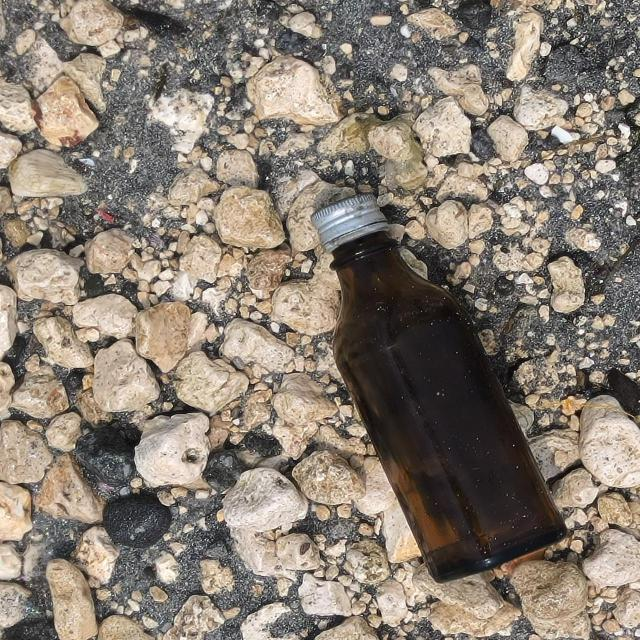glass_waste: (309, 191, 573, 587)
